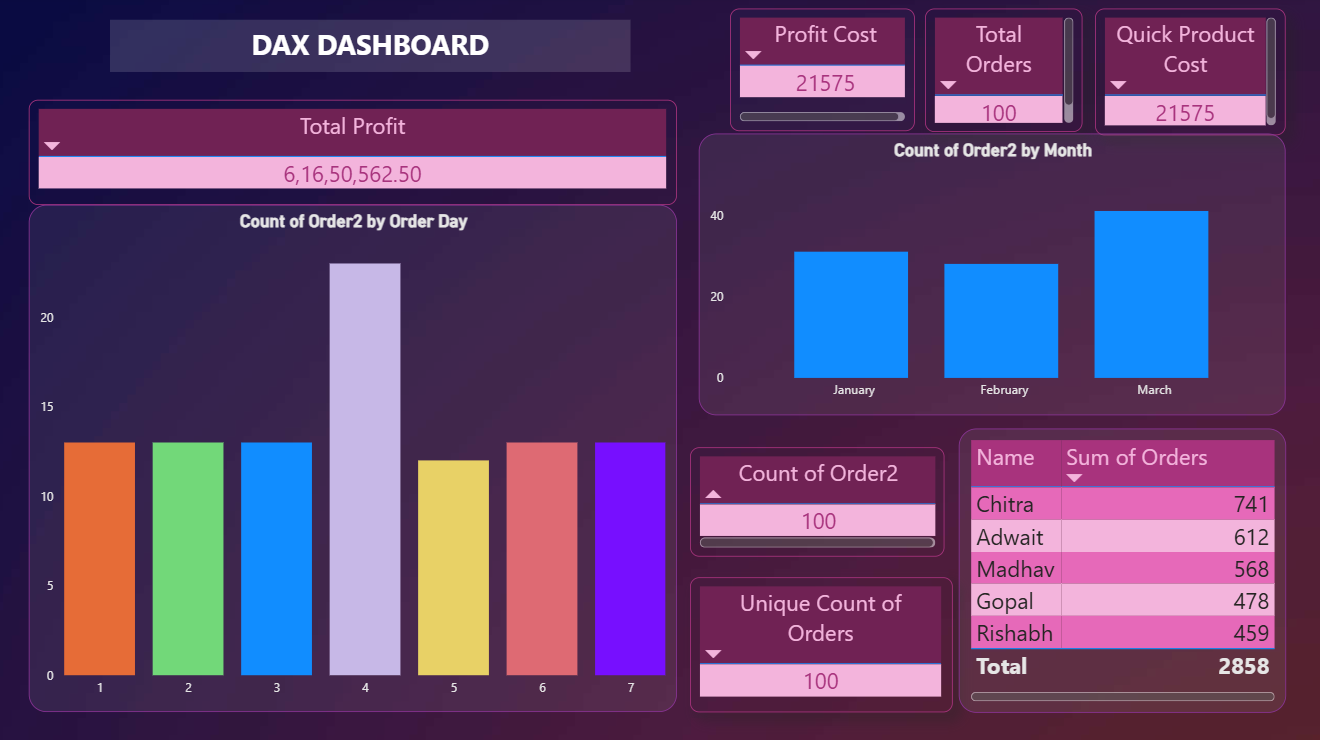

This screenshot's page, from the dashboard's own definition file:
{"tool":"powerbi","page":{"name":"Page 1","canvas":[1280,720],"ordinal":0},"visuals":[{"type":"tableEx","fields":{"Values":["Orders.Count of Orders"]},"box":[897.4,12.3,152.3,119.4],"z":0},{"type":"tableEx","fields":{"Values":["Orders.Count of Order2"]},"box":[671,435,245.6,105.7],"z":1000},{"type":"tableEx","fields":{"Values":["Orders.Unique Count of Orders"]},"box":[671,561.2,253.9,130.4],"z":2000},{"type":"tableEx","fields":{"Values":["Customers.Name","Orders.Sum of Orders"]},"box":[930.4,417.2,315.6,274.4],"z":3000},{"type":"tableEx","fields":{"Values":["Orders.Profit Cost"]},"box":[709.4,12.3,178.4,118],"z":4000},{"type":"tableEx","fields":{"Values":["Orders.Quick Product Cost"]},"box":[1062.1,12.3,183.9,122.1],"z":5000},{"type":"tableEx","fields":{"Values":["Orders.Total Profit"]},"box":[32.9,100.2,625.7,101.5],"z":6000},{"type":"columnChart","fields":{"Category":["Customers.Order Date.Variation.Date Hierarchy.Month","Customers.Order Date.Variation.Date Hierarchy.Day"],"Y":["Orders.Count of Order2"]},"box":[679.2,133.1,566.7,271.7],"z":7000},{"type":"columnChart","fields":{"Category":["Customers.Order Day"],"Y":["Orders.Count of Order2"]},"box":[32.9,201.7,625.7,489.9],"z":8000},{"type":"textbox","box":[111.1,23.3,502.2,50.8],"z":9000}]}

Visuals, with their boxes in screenshot pixels (x1, y1, x2, y2), scaled from the page's 1280x720 canvas onto the 1320x740 screenshot:
tableEx - Orders.Count of Orders: [925,13,1083,135]
tableEx - Orders.Count of Order2: [692,447,945,556]
tableEx - Orders.Unique Count of Orders: [692,577,954,711]
tableEx - Customers.Name x Orders.Sum of Orders: [959,429,1285,711]
tableEx - Orders.Profit Cost: [732,13,916,134]
tableEx - Orders.Quick Product Cost: [1095,13,1285,138]
tableEx - Orders.Total Profit: [34,103,679,207]
columnChart - Customers.Order Date.Variation.Date Hierarchy.Month x Customers.Order Date.Variation.Date Hierarchy.Day: [700,137,1285,416]
columnChart - Customers.Order Day x Orders.Count of Order2: [34,207,679,711]
textbox: [115,24,632,76]
